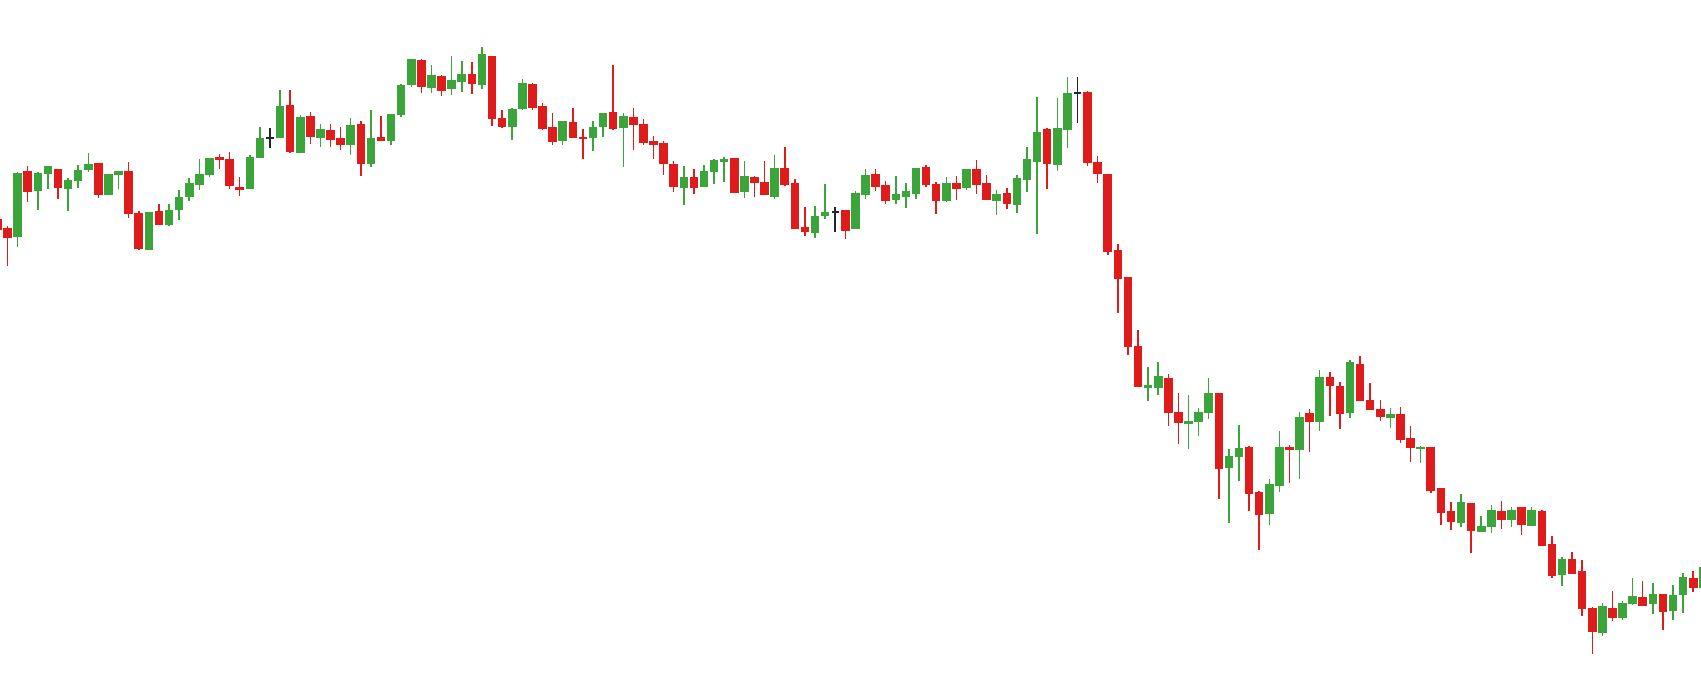sell: (1031, 63, 1096, 173)
